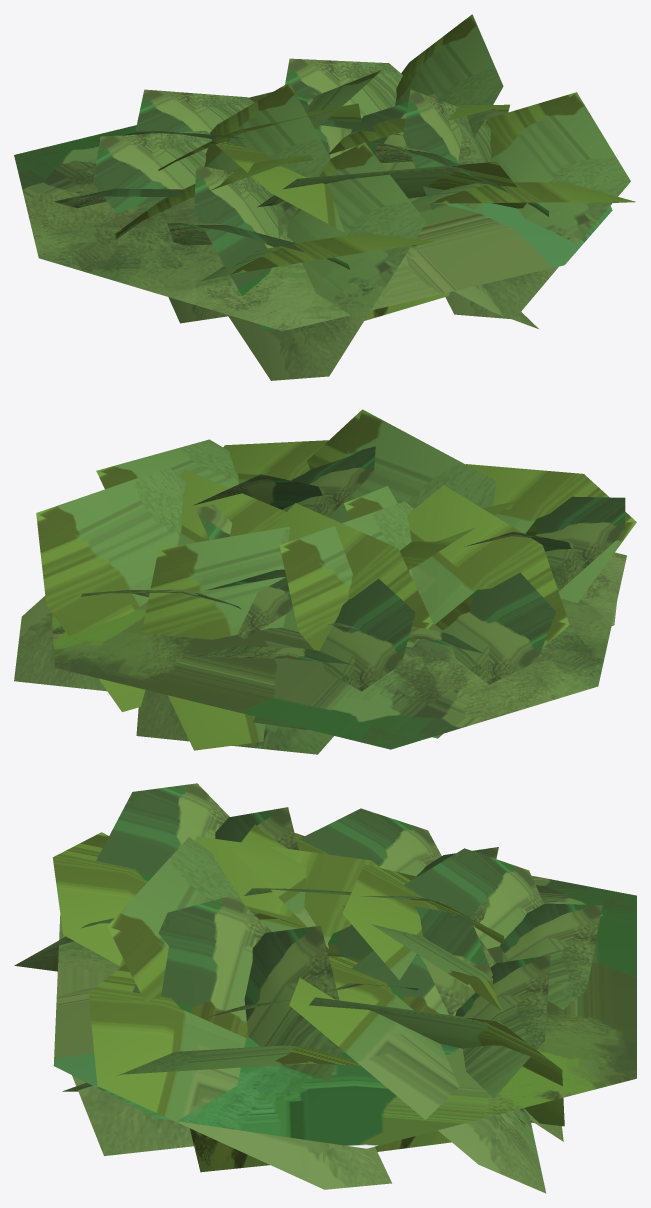
The model's file is Mousse_01.fbx.
3 renders of one model, top to bottom at view 1: azimuth 30°, elevation 25°; view 2: azimuth 150°, elevation 25°; view 3: azimuth 270°, elevation 25°, orthographic. The views are drawn at different scales.
Parts seen in each view (by area): view 1: Mousse_01; view 2: Mousse_01; view 3: Mousse_01.
Part boxes in pixels (x1,y1,x2,y2): Mousse_01: (14, 14, 635, 380); Mousse_01: (14, 409, 636, 754); Mousse_01: (14, 783, 636, 1193).
Bounding box in the file's own units: 2.89 × 0.9743 × 2.51.
